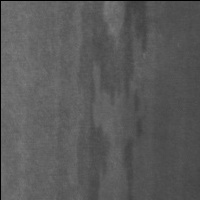inclusion: (82, 1, 154, 107), (72, 83, 111, 200), (120, 110, 151, 199)
